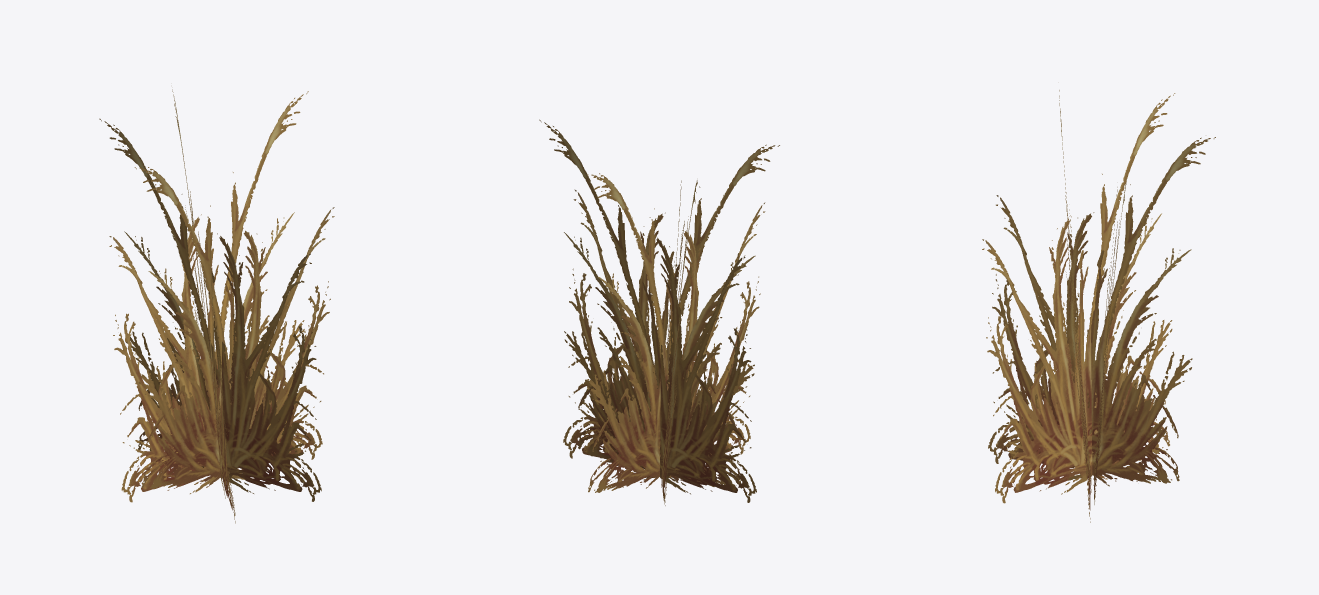
The model's file is Grass_Tall.fbx.
The picture shows the model from 3 angles, left to right: view 1: azimuth 30°, elevation 25°; view 2: azimuth 150°, elevation 25°; view 3: azimuth 270°, elevation 25°; orthographic projection.
Visible parts, largest first — view 1: Grass_Tall; view 2: Grass_Tall; view 3: Grass_Tall.
Part boxes in pixels (bbox=[...]): Grass_Tall: bbox=[99, 89, 334, 523]; Grass_Tall: bbox=[539, 119, 779, 505]; Grass_Tall: bbox=[982, 90, 1215, 522].
Size of the model in its own units: 10.01 by 9.96 by 9.67.
